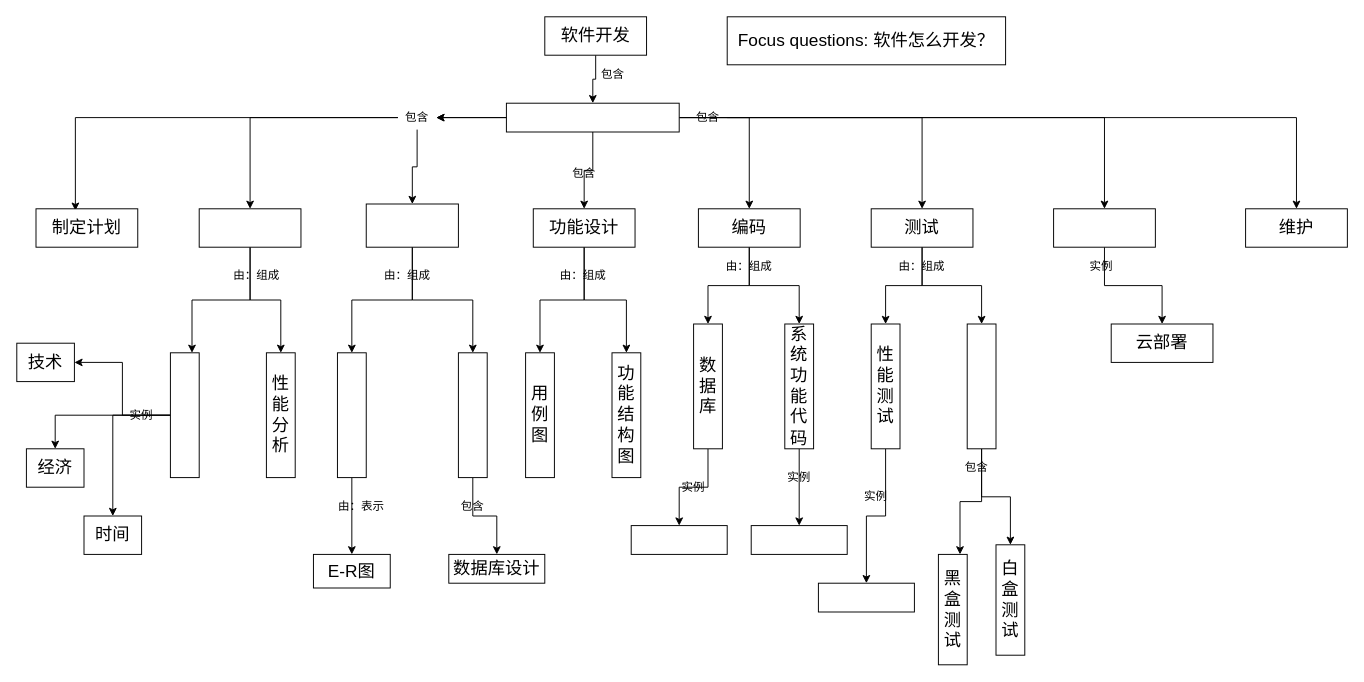
Image size: 1364x682. Some labels were removed from this diagram. Here are the shapes that lost their labels. From the top down, the centre of each, then its label:
At [592,117]: "软件生命周期".
At [249,227]: "需求分析".
At [411,225]: "概要设计".
At [1104,227]: "部署".
At [981,386]: "功能测试".
At [184,415]: "可行性分析".
At [351,415]: "逻辑设计".
At [472,415]: "物理设计".
At [678,539]: "MySQL".
At [798,539]: "J2EE".
At [865,597]: "压力测试".
